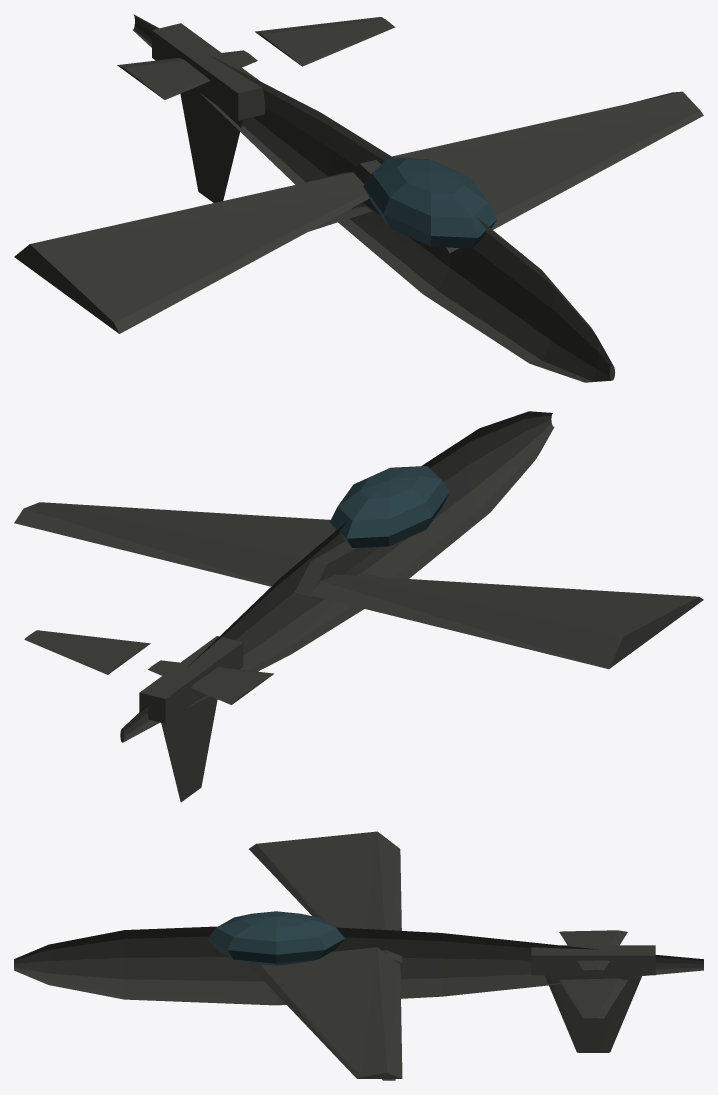
File: tornado_Destroyed.glb
3 renders of one model, top to bottom at view 1: azimuth 30°, elevation 25°; view 2: azimuth 150°, elevation 25°; view 3: azimuth 270°, elevation 25°, orthographic. The views are drawn at different scales.
Visible parts, largest first — view 1: Fuselage, Wing_L, Wing_R, Cockpit, TailBoom, Rudder, Elevator_R, Elevator_L; view 2: Fuselage, Wing_L, Wing_R, Cockpit, TailBoom, Rudder, Elevator_R, Elevator_L; view 3: Fuselage, Wing_R, Wing_L, Cockpit, TailBoom, Rudder, Elevator_R, Elevator_L.
Part boxes in pixels (<box>): Fuselage: <box>132,14,615,382</box>; Wing_L: <box>14,172,369,333</box>; Wing_R: <box>349,91,703,253</box>; Cockpit: <box>363,157,496,248</box>; TailBoom: <box>152,23,265,120</box>; Rudder: <box>180,88,242,202</box>; Elevator_R: <box>255,17,395,66</box>; Elevator_L: <box>117,50,257,99</box>; Fuselage: <box>120,411,554,742</box>; Wing_L: <box>311,574,703,669</box>; Wing_R: <box>14,502,380,596</box>; Cockpit: <box>330,466,449,547</box>; TailBoom: <box>139,636,243,723</box>; Rudder: <box>161,694,217,802</box>; Elevator_R: <box>24,630,150,674</box>; Elevator_L: <box>148,660,273,704</box>; Fuselage: <box>14,926,703,1005</box>; Wing_R: <box>249,947,402,1078</box>; Wing_L: <box>249,831,402,962</box>; Cockpit: <box>207,911,344,965</box>; TailBoom: <box>531,945,655,975</box>; Rudder: <box>544,975,641,1052</box>; Elevator_R: <box>559,978,627,1018</box>; Elevator_L: <box>559,930,627,970</box>.
Bounding box in the file's own units: 13.34 × 3.66 × 16.8.
